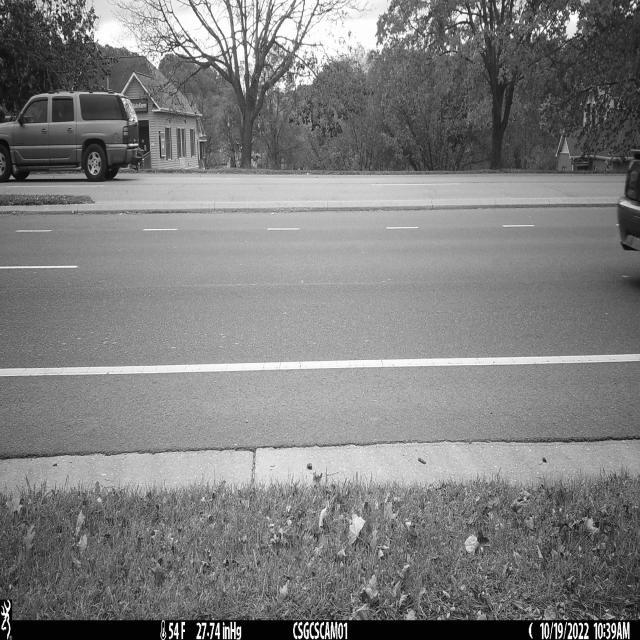SUV: (0, 91, 138, 182)
